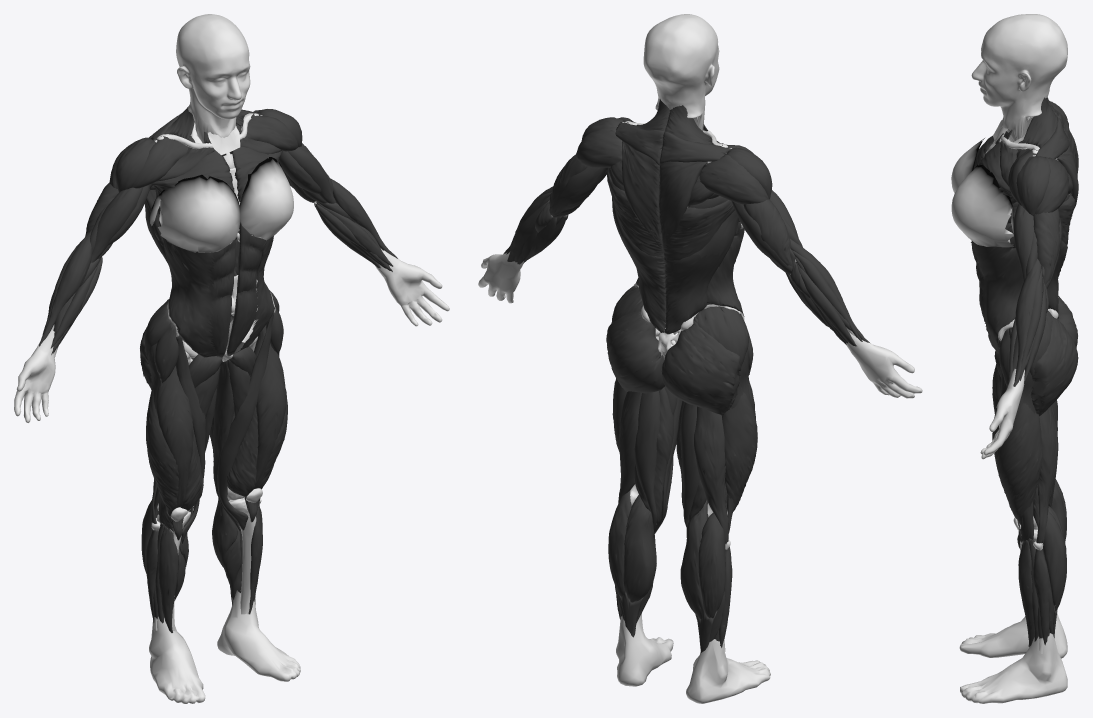
Rendered from corpo-f-4.glb.
The picture shows the model from 3 angles, left to right: view 1: azimuth 30°, elevation 25°; view 2: azimuth 150°, elevation 25°; view 3: azimuth 270°, elevation 25°; orthographic projection.
Parts seen in each view (by area): view 1: pele, mama, deco, cabeca, quad_reto_femoral, obliquos, adutores, antebraco_flexores, ombro_frontal, quad_vasto_lateral, antebraco_braquiorradial, quad_vasto_medial (+13 smaller); view 2: pele, gluteo_maximo, panturrilha_gastro, cabeca, isquio_semitendineo, dorsal_inferior, trapezio_inferior, isquio_biceps_femoral, dorsal_superior, antebraco_extensores, ombro_posterior, quad_vasto_lateral (+12 smaller); view 3: cabeca, pele, mama, deco, quad_vasto_lateral, obliquos, gluteo_maximo, panturrilha_gastro, isquio_biceps_femoral, ombro_lateral, triceps_lateral, antebraco_braquiorradial (+20 smaller).
Boxes of the visible parts, <box> form: pele: <box>14,250,449,703</box>; mama: <box>149,157,293,252</box>; deco: <box>146,132,279,632</box>; cabeca: <box>176,14,250,143</box>; quad_reto_femoral: <box>156,325,286,540</box>; obliquos: <box>163,236,274,357</box>; adutores: <box>182,342,256,545</box>; antebraco_flexores: <box>50,201,393,354</box>; ombro_frontal: <box>131,113,297,188</box>; quad_vasto_lateral: <box>146,388,287,517</box>; antebraco_braquiorradial: <box>39,178,397,346</box>; quad_vasto_medial: <box>176,407,258,536</box>; pele: <box>478,252,922,703</box>; gluteo_maximo: <box>606,305,740,415</box>; panturrilha_gastro: <box>608,490,725,618</box>; cabeca: <box>643,14,719,131</box>; isquio_semitendineo: <box>634,387,706,529</box>; dorsal_inferior: <box>618,230,729,334</box>; trapezio_inferior: <box>622,141,707,251</box>; isquio_biceps_femoral: <box>618,391,728,544</box>; dorsal_superior: <box>607,167,739,258</box>; antebraco_extensores: <box>506,192,862,346</box>; ombro_posterior: <box>575,127,768,204</box>; quad_vasto_lateral: <box>612,378,757,511</box>; cabeca: <box>971,14,1067,149</box>; pele: <box>959,369,1067,703</box>; mama: <box>951,138,1013,247</box>; deco: <box>995,129,1057,646</box>; quad_vasto_lateral: <box>997,403,1042,540</box>; obliquos: <box>971,223,1023,353</box>; gluteo_maximo: <box>1031,296,1078,416</box>; panturrilha_gastro: <box>1043,479,1066,610</box>; isquio_biceps_femoral: <box>1033,400,1058,544</box>; ombro_lateral: <box>1016,156,1050,215</box>; triceps_lateral: <box>1033,209,1060,284</box>; antebraco_braquiorradial: <box>1013,259,1041,386</box>.
Size of the model in its own units: 1.15 by 1.66 by 0.2907.
1 material, 1 textured.
